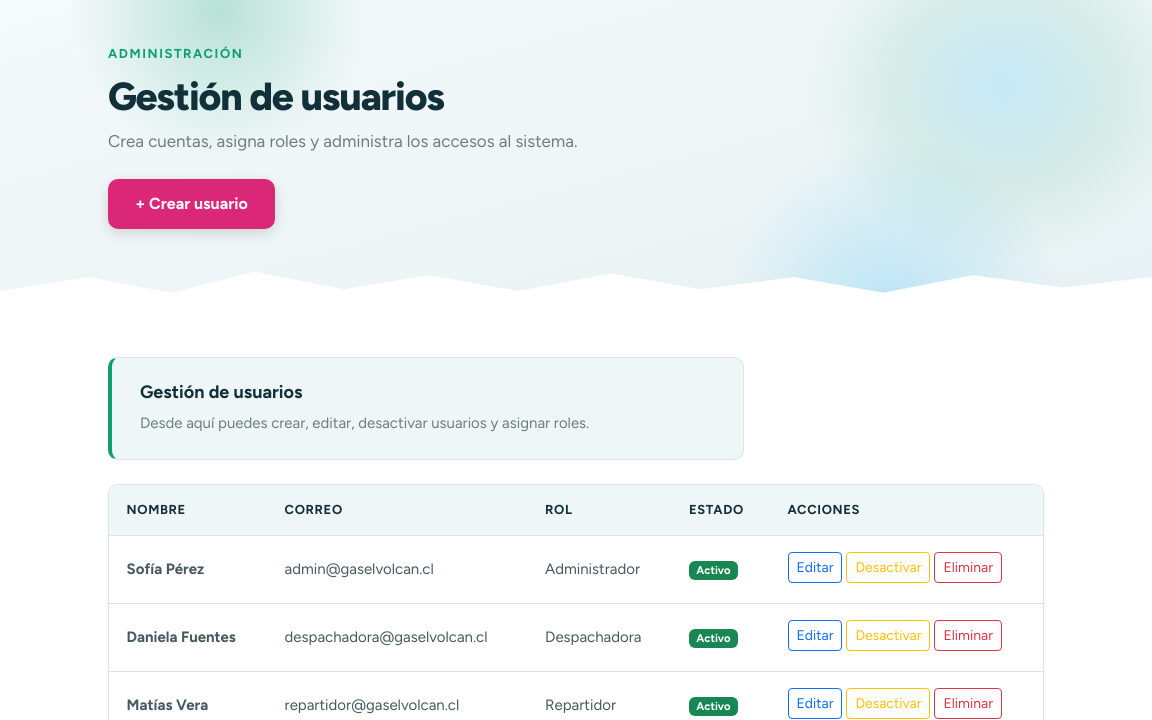
Test: Gestión de usuarios › al editar su propia cuenta, el administrador no puede cambiar su correo ni su rol
The width and height of the screenshot is (1152, 720).
Step 1. Click the button "Editar" in the row of "Sofía Pérez" → (815,567), box [788,552,842,583]
(page scrolled)
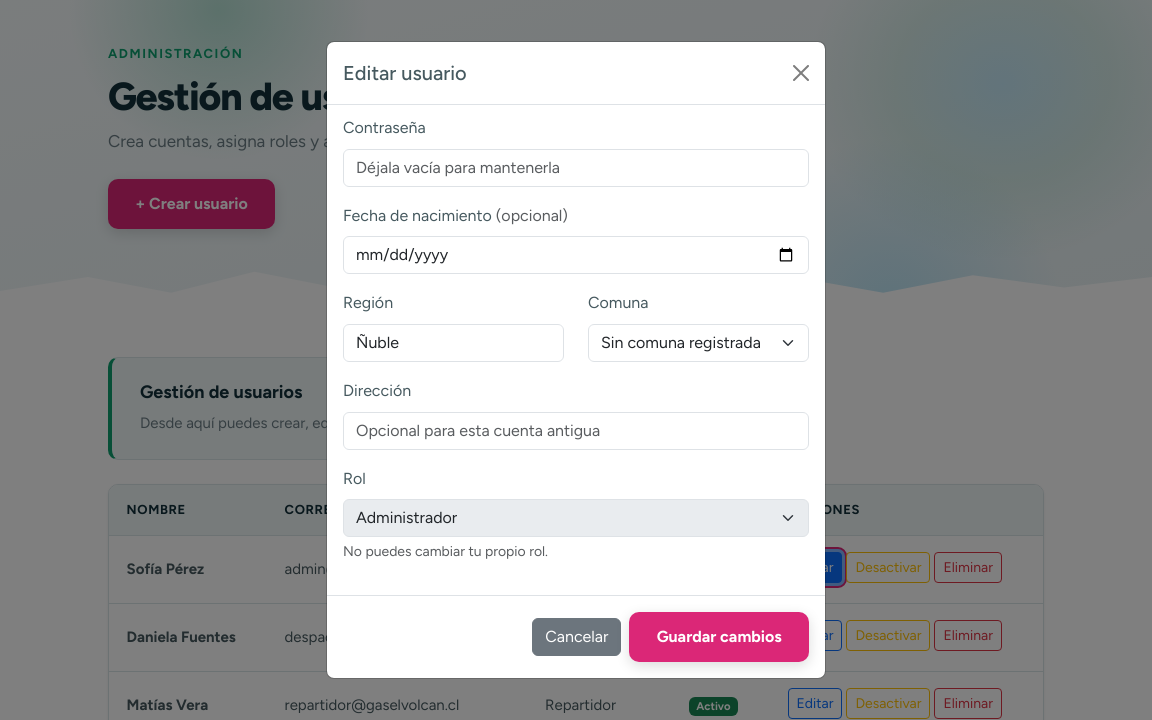
expect the dropdown with id "rolUsuarioForm" is disabled: met, box [343,499,809,537]
